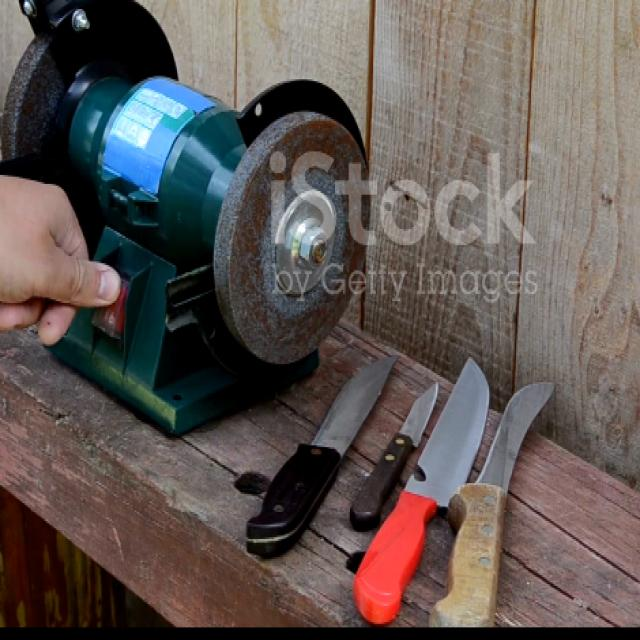knife: (349, 359, 556, 626), (246, 357, 398, 559)
